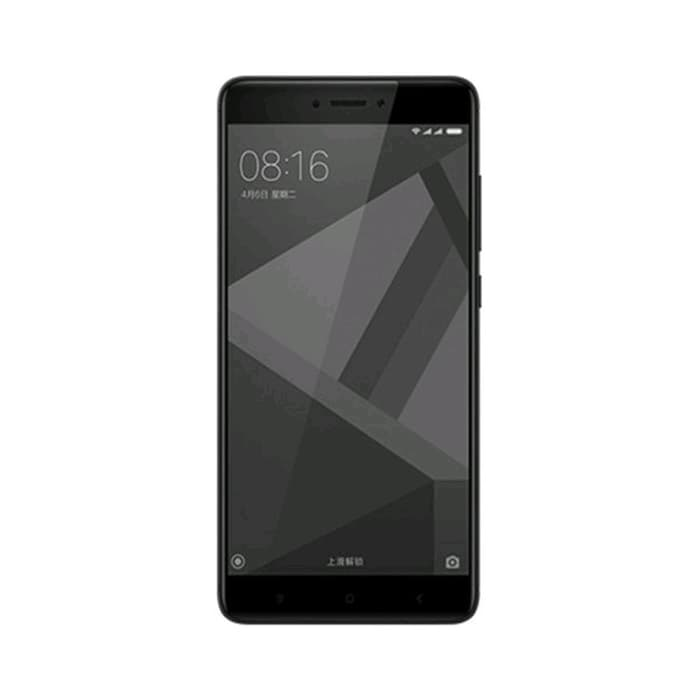Handphone: (208, 67, 491, 633)
